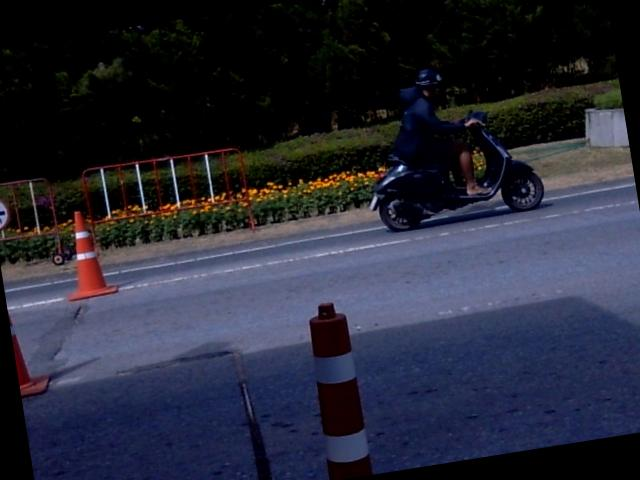helmet: (415, 62, 441, 98)
motor: (368, 127, 543, 231)
person: (391, 69, 488, 194)
